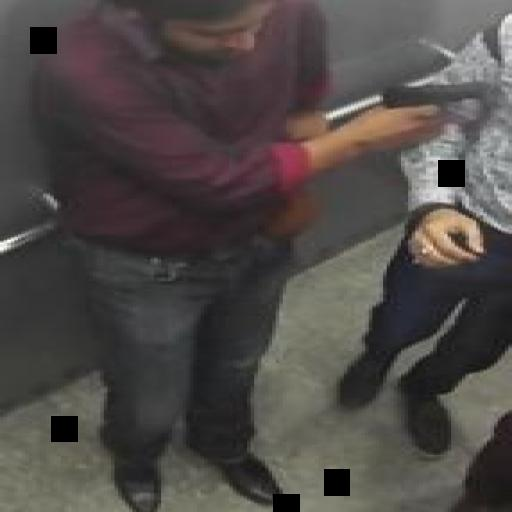Handgun: (372, 79, 486, 139)
